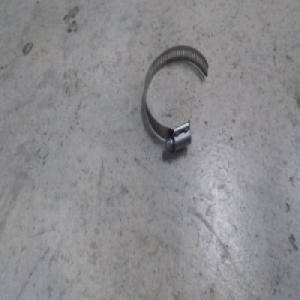AdjustableClamp: (140, 46, 210, 154)
